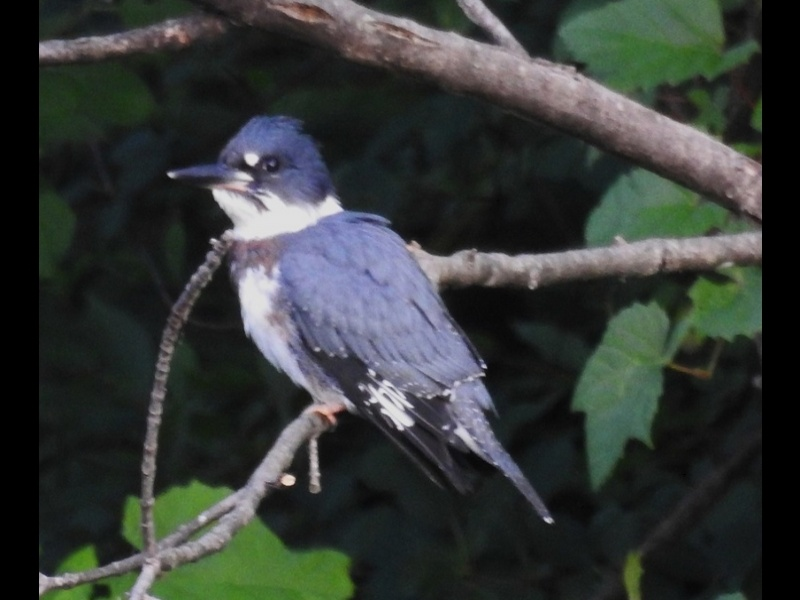kingfisher: (162, 108, 555, 528)
